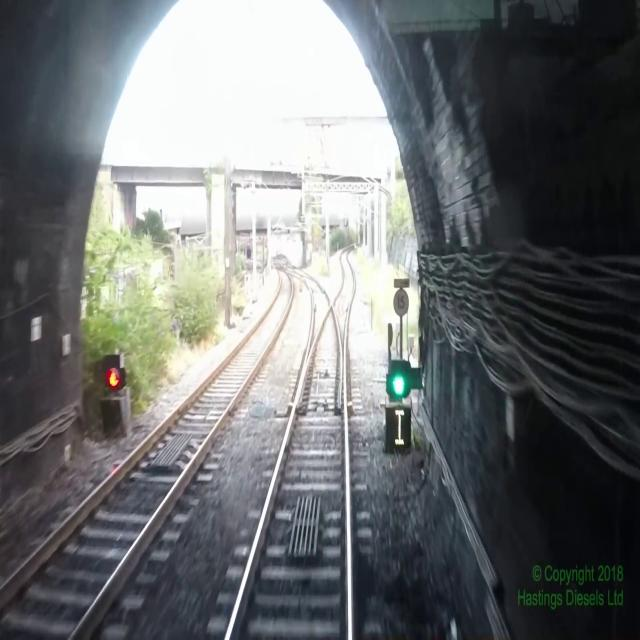rail-track: (0, 269, 291, 639), (229, 307, 347, 639), (299, 275, 330, 350), (286, 265, 304, 273)
